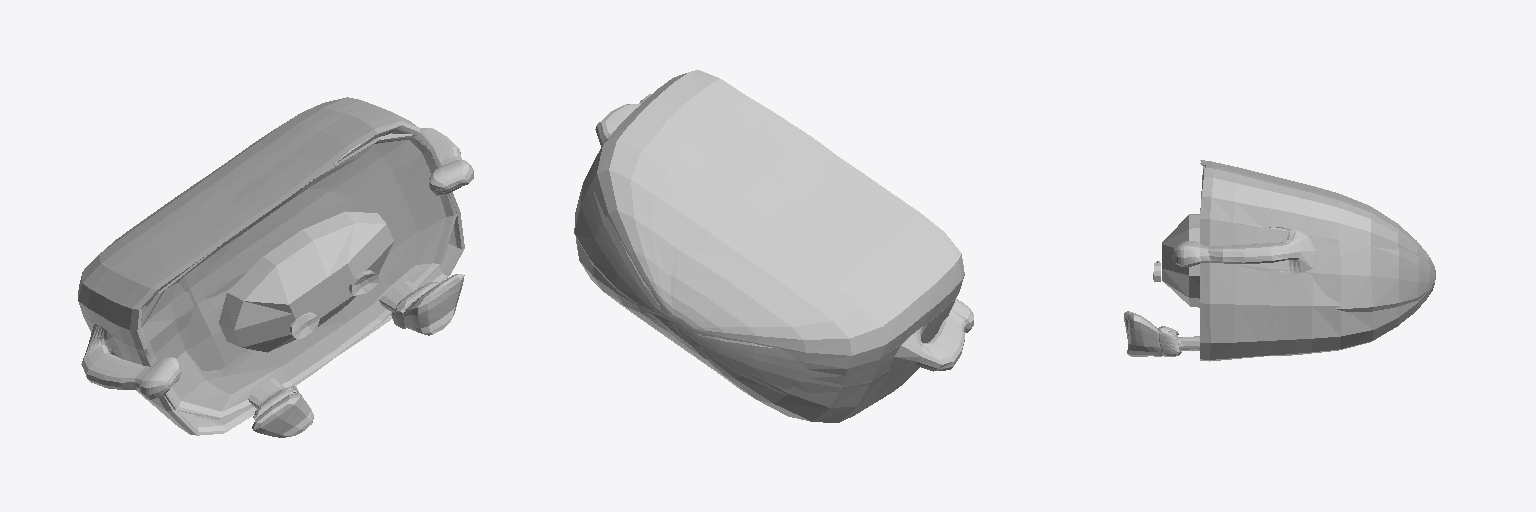
File: Pal_000032.obj
3 views of the same model, side by side, from view 1: azimuth 30°, elevation 25°; view 2: azimuth 150°, elevation 25°; view 3: azimuth 270°, elevation 25° (orthographic).
Parts seen in each view (by area): view 1: Cuerpo_de_aguacate_3.001_Cube.002, Hueso_Cubo.003, Ojos_Cubo.002; view 2: Cuerpo_de_aguacate_3.001_Cube.002; view 3: Cuerpo_de_aguacate_3.001_Cube.002, Hueso_Cubo.003.
Boxes of the visible parts, x1=… form: Cuerpo_de_aguacate_3.001_Cube.002: x1=78, y1=97, x2=473, y2=437; Hueso_Cubo.003: x1=219, y1=211, x2=393, y2=352; Ojos_Cubo.002: x1=289, y1=270, x2=378, y2=339; Cuerpo_de_aguacate_3.001_Cube.002: x1=574, y1=70, x2=973, y2=422; Cuerpo_de_aguacate_3.001_Cube.002: x1=1124, y1=160, x2=1435, y2=361; Hueso_Cubo.003: x1=1162, y1=214, x2=1199, y2=307.
Size of the model in its own units: 1.33 by 0.9449 by 1.01.